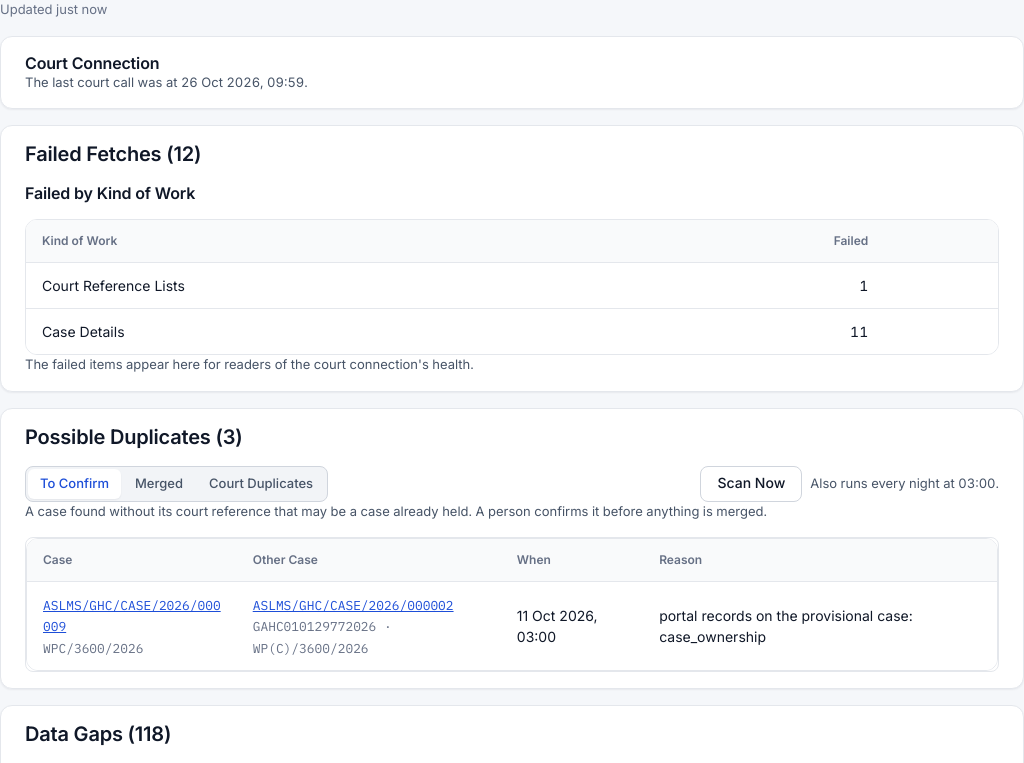
Test: Problems and Fixes (decisions 42-46) › Possible Duplicates: three kinds with a line each, Scan Now with admin.data_load only
This screenshot has width=1024, height=763.
Expected: the text "portal records on the provisional case: case_ownership" is shown, [659, 607, 913, 645]
Expected: the text "A person confirms it before anything is merged" is shown, [25, 502, 767, 518]
Click the button "Scan Now": [751, 484] box [700, 466, 802, 502]
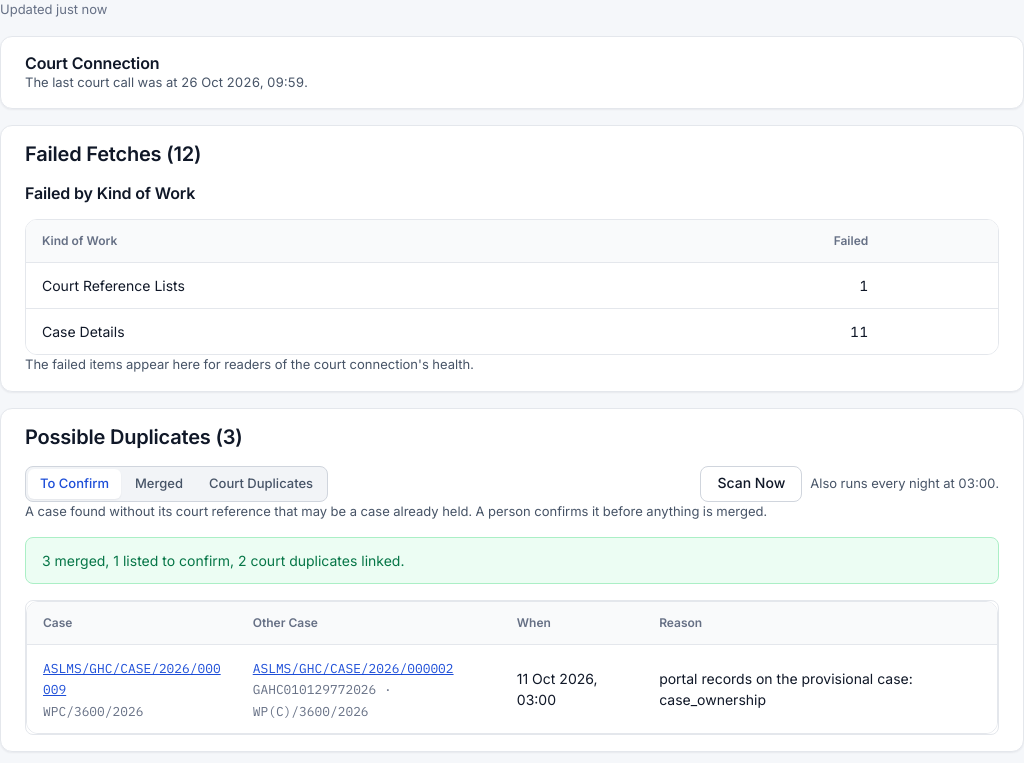
Expected: the text "3 merged, 1 listed to confirm, 2 court duplicates linked." is shown, [25, 537, 999, 584]
Click the radio button labelled "Court Duplicates": [261, 484] box [197, 468, 325, 498]
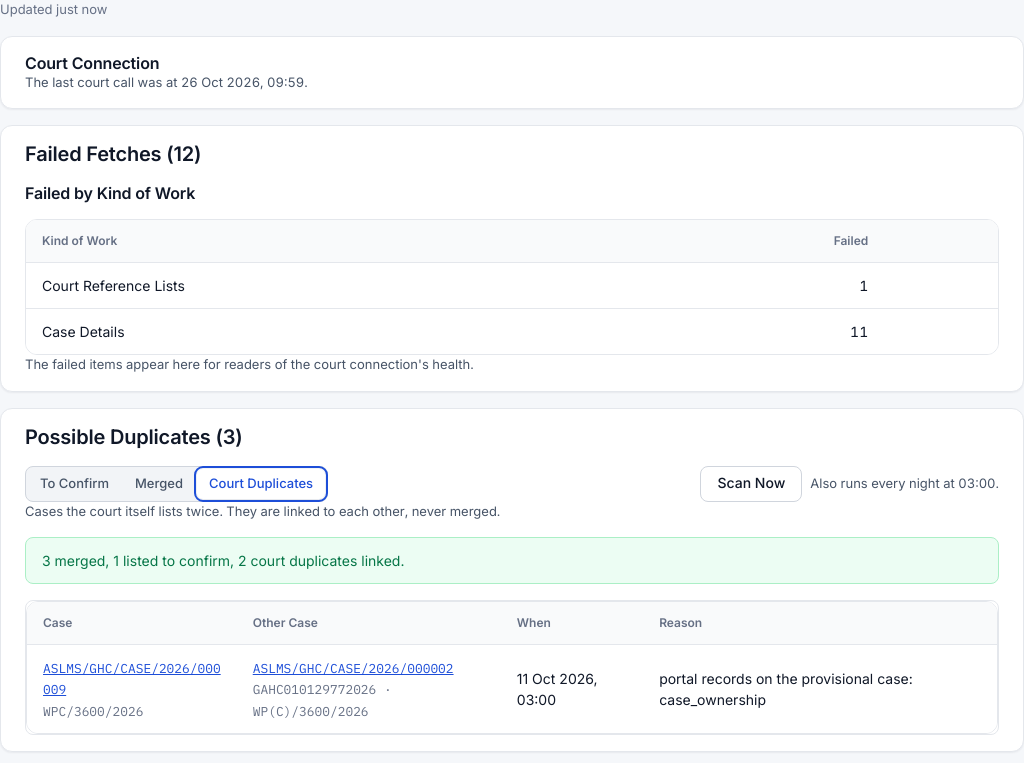
Expected: the text "never merged" is shown, [25, 502, 500, 518]
